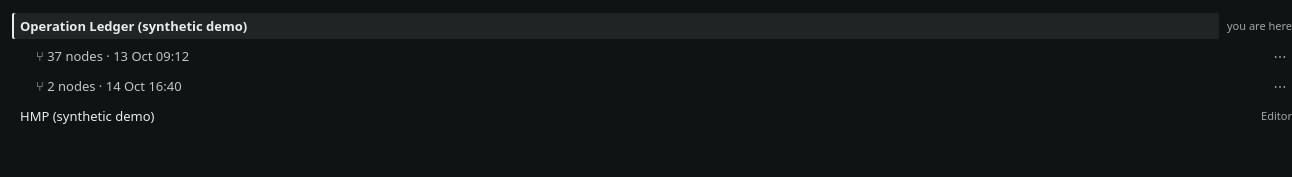
Scenario: CaseTree › renames a branch from its row, and shows the new name
Click the button named "Actions for 2 nodes · 14 Oct 16:40" at coordinates (1280, 86), box [1268,74,1291,98]
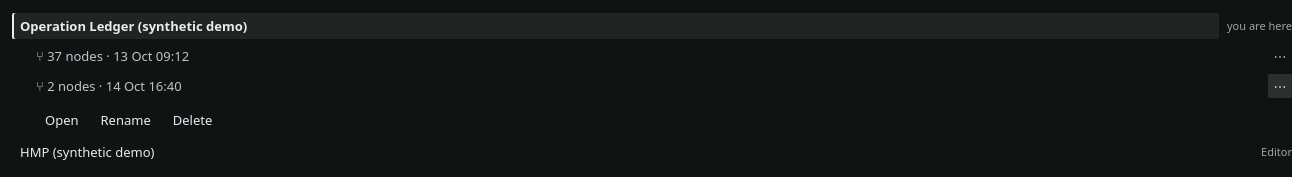
Click the button "Rename" at coordinates (126, 120), box [92,104,160,136]
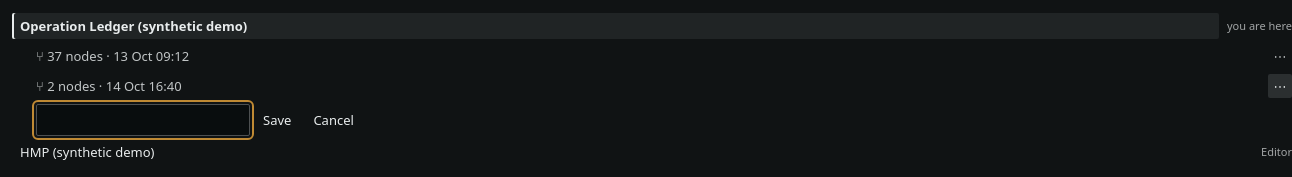
Type "Midland Pallets route" into the field named "Branch name" at coordinates (143, 120), box [36,104,250,136]
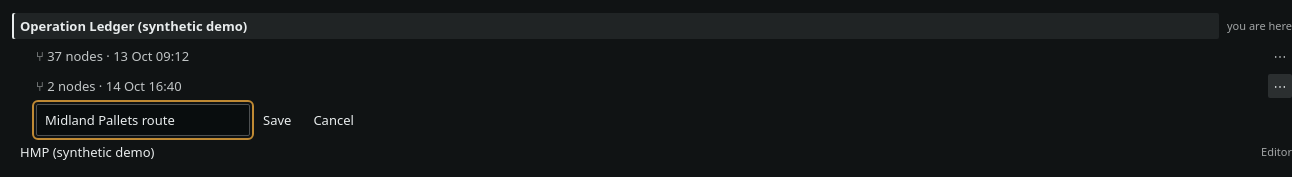
Press Enter in the field named "Branch name", box [36,104,250,136]
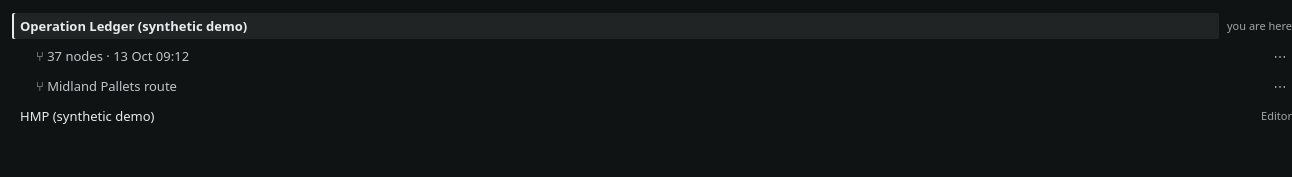
Check: the button "⑂ Midland Pallets route" is shown, box [28,73,1252,99]
